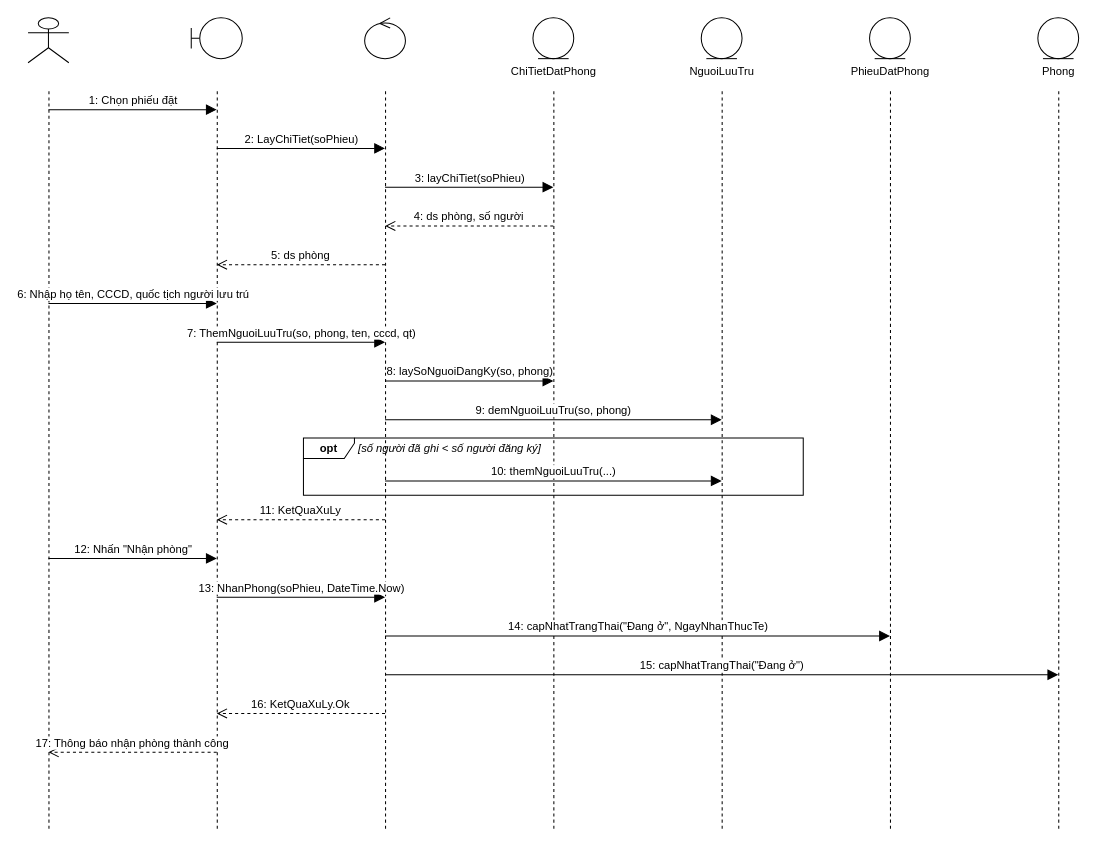
Image size: 1097x850. Some labels were removed from this diagram. Each missing label, with the centre of its shape:
DatPhongService: (x=384, y=38)
FrmDatPhong: (x=216, y=38)
NV lễ tân: (x=48, y=40)
